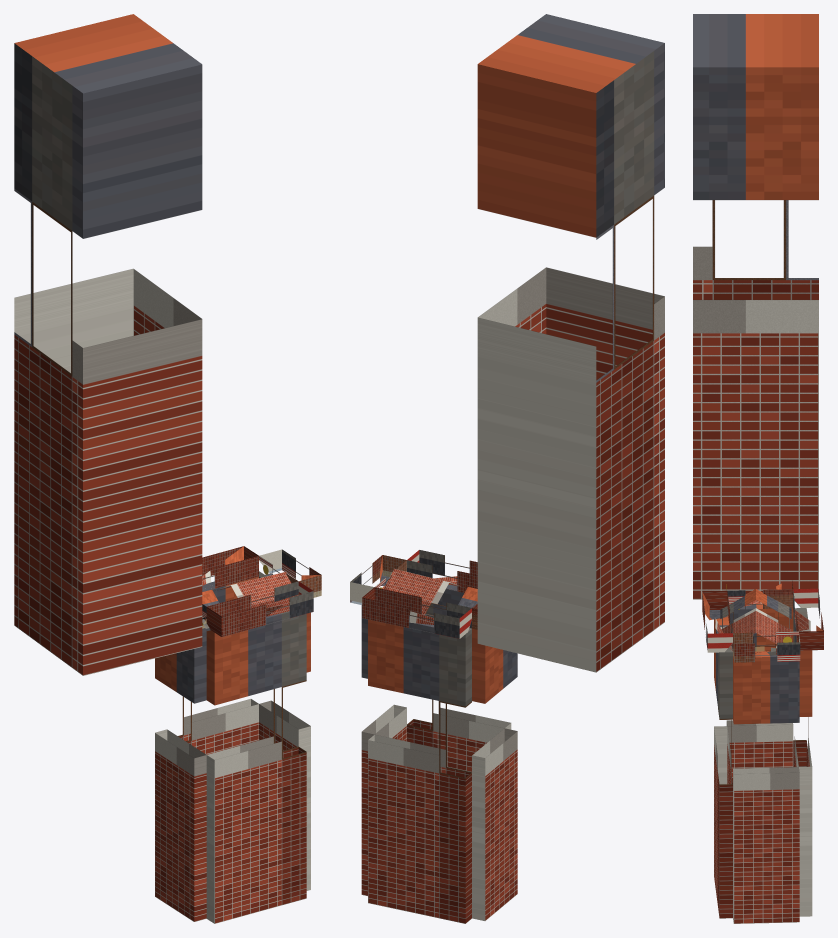
The picture shows the model from 3 angles, left to right: view 1: azimuth 30°, elevation 25°; view 2: azimuth 150°, elevation 25°; view 3: azimuth 270°, elevation 25°; orthographic projection. The views are drawn at different scales.
Parts seen in each view (by area): view 1: 1241125013__chimney_0_xb, 1241125013__wall_3_xb, 1241125013__wall_0_xb, 1241125013__wall_1_xb, 1241125013__cornice_3, 1241125013__wall_2_xb, 1241125013__cornice_1, 1241125013_roof_-1_xb, 1241125013__cornice_2; view 2: 1241125013__chimney_0_xb, 1241125013__wall_1_xb, 1241125013__wall_0_xb, 1241125013__wall_3_xb, 1241125013__cornice_1, 1241125013__wall_2_xb, 1241125013_roof_1_xb, 1241125013__cornice_3, 1241125013__cornice_2; view 3: 1241125013__chimney_0_xb, 1241125013__wall_2_xb, 1241125013__wall_3_xb, 1241125013__wall_0_xb, 1241125013__wall_1_xb, 1241125013__cornice_2, 1241125013__cornice_1, 1241125013__cornice_3, 1241125013_roof_1_xb, 1241125013_roof_-1_xb, 1241125013__cornice_0.
Part boxes in pixels (box(x1,y1,x2,y2)): 1241125013__chimney_0_xb: box(14, 14, 202, 675); 1241125013__wall_3_xb: box(206, 611, 306, 923); 1241125013__wall_0_xb: box(155, 626, 206, 921); 1241125013__wall_1_xb: box(178, 576, 258, 754); 1241125013__cornice_3: box(206, 581, 313, 636); 1241125013__wall_2_xb: box(259, 573, 310, 890); 1241125013__cornice_1: box(202, 546, 258, 591); 1241125013_roof_-1_xb: box(202, 571, 298, 630); 1241125013__cornice_2: box(259, 549, 321, 597); 1241125013__chimney_0_xb: box(477, 14, 664, 672); 1241125013__wall_1_xb: box(368, 616, 471, 923); 1241125013__wall_0_xb: box(472, 628, 517, 920); 1241125013__wall_3_xb: box(407, 584, 511, 772); 1241125013__cornice_1: box(362, 587, 471, 638); 1241125013__wall_2_xb: box(361, 586, 406, 895); 1241125013_roof_1_xb: box(383, 569, 477, 616); 1241125013__cornice_3: box(407, 550, 477, 592); 1241125013__cornice_2: box(350, 555, 406, 604); 1241125013__chimney_0_xb: box(693, 14, 818, 599); 1241125013__wall_2_xb: box(733, 651, 799, 923); 1241125013__wall_3_xb: box(714, 615, 732, 918); 1241125013__wall_0_xb: box(726, 603, 793, 782); 1241125013__wall_1_xb: box(793, 608, 812, 916); 1241125013__cornice_2: box(733, 631, 800, 662); 1241125013__cornice_1: box(793, 588, 823, 650); 1241125013__cornice_3: box(702, 590, 732, 652); 1241125013_roof_1_xb: box(756, 589, 791, 643); 1241125013_roof_-1_xb: box(720, 589, 755, 646); 1241125013__cornice_0: box(726, 581, 793, 609).
Size of the model in its own units: 0.3284 by 1.05 by 0.156.
Materials: 1 (1 with a texture image).
